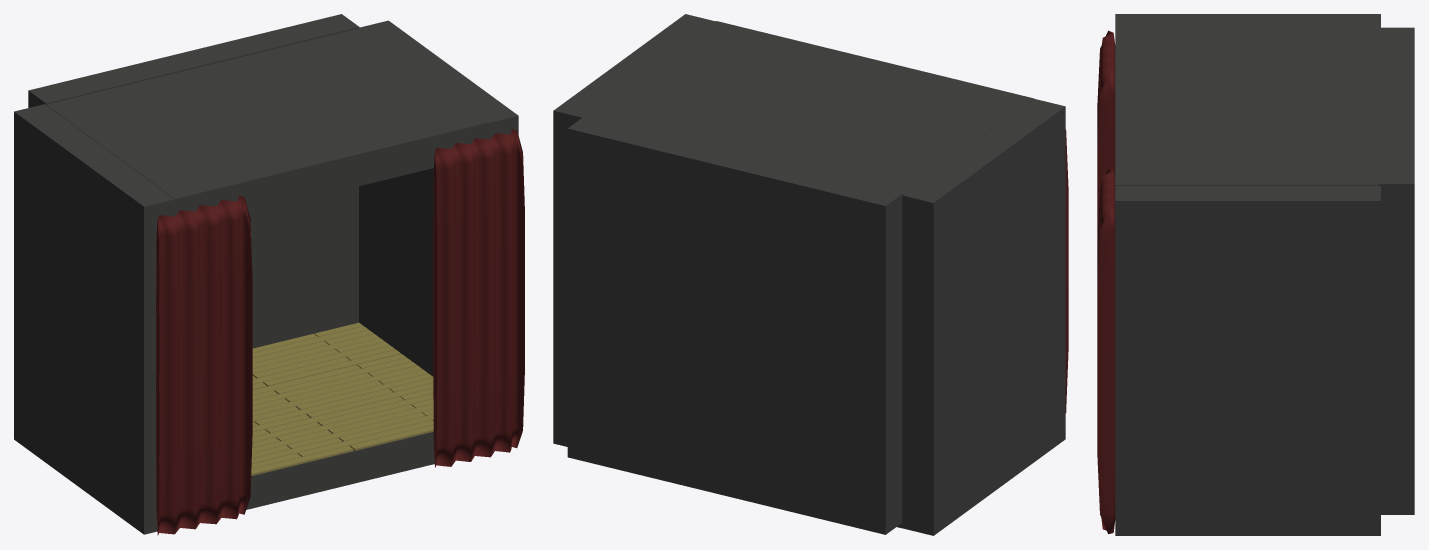
The model's file is Stage 1.fbx.
3 renders of one model, left to right at view 1: azimuth 30°, elevation 25°; view 2: azimuth 150°, elevation 25°; view 3: azimuth 270°, elevation 25°, orthographic. The views are drawn at different scales.
Visible parts, largest first — view 1: group5_pasted__group_pasted__pasted__pCube2; view 2: group5_pasted__group_pasted__pasted__pCube2; view 3: group5_pasted__group_pasted__pasted__pCube2.
Boxes of the visible parts, bbox=[...] form: group5_pasted__group_pasted__pasted__pCube2: bbox=[14, 14, 524, 535]; group5_pasted__group_pasted__pasted__pCube2: bbox=[553, 14, 1068, 535]; group5_pasted__group_pasted__pasted__pCube2: bbox=[1097, 14, 1414, 535].
Size of the model in its own units: 43.61 by 36.78 by 31.34.
